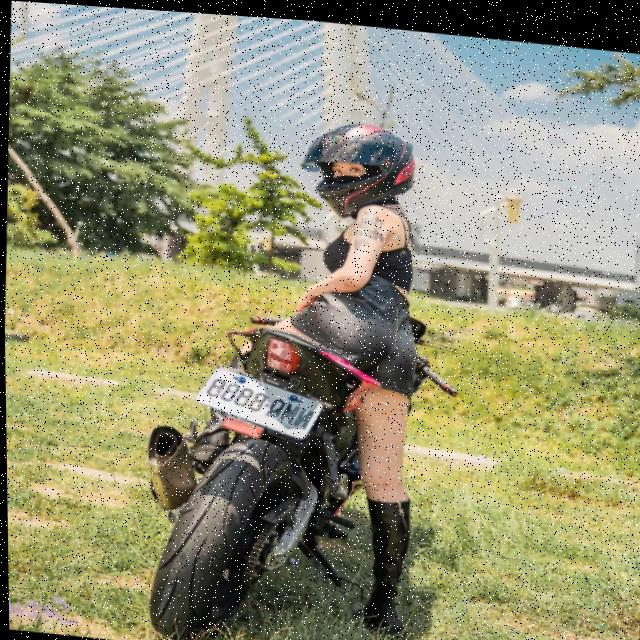helmet: (294, 109, 421, 223)
